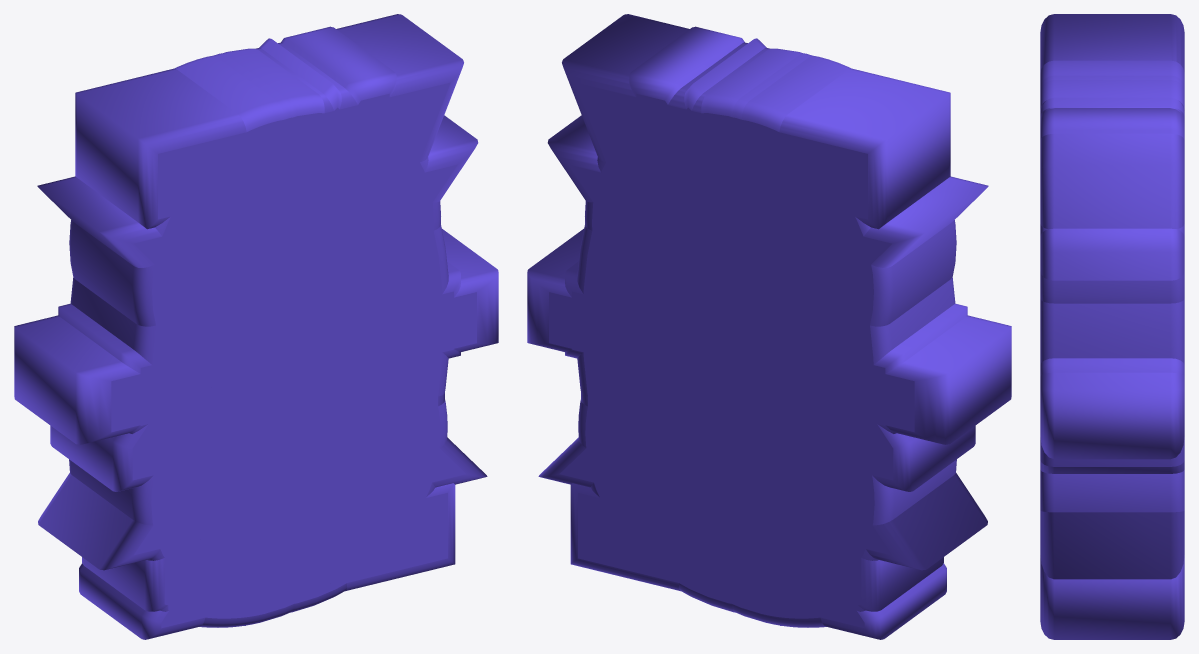
File: Numbers3D.fbx
3 renders of one model, left to right at view 1: azimuth 30°, elevation 25°; view 2: azimuth 150°, elevation 25°; view 3: azimuth 270°, elevation 25°, orthographic. The views are drawn at different scales.
Visible parts, largest first — view 1: 5, x, /, 7, 4, 6, 0, 2, +, 8, 3, 9 (+2 smaller); view 2: 7, 9, 2, x, /, 0, 4, 8, +, 3, -, 5 (+2 smaller); view 3: 7, x, /, 0, 2, 8, 4, +, 6, 9.
Part boxes in pixels (left/top/right/bottom): 5: left=82, top=97, right=422, bottom=613; x: left=37, top=115, right=487, bottom=570; /: left=14, top=229, right=498, bottom=521; 7: left=75, top=14, right=463, bottom=503; 4: left=50, top=26, right=444, bottom=589; 6: left=156, top=38, right=435, bottom=605; 0: left=70, top=48, right=448, bottom=550; 2: left=79, top=55, right=455, bottom=639; +: left=58, top=193, right=460, bottom=528; 8: left=69, top=113, right=447, bottom=612; 3: left=160, top=128, right=398, bottom=627; 9: left=69, top=53, right=308, bottom=625; 7: left=562, top=14, right=950, bottom=603; 9: left=592, top=53, right=956, bottom=625; 2: left=570, top=55, right=946, bottom=639; x: left=538, top=115, right=988, bottom=570; /: left=527, top=195, right=1011, bottom=444; 0: left=577, top=48, right=955, bottom=602; 4: left=581, top=26, right=975, bottom=588; 8: left=578, top=114, right=956, bottom=612; +: left=565, top=188, right=967, bottom=498; 3: left=618, top=124, right=865, bottom=627; -: left=692, top=335, right=867, bottom=417; 5: left=767, top=209, right=943, bottom=611; 7: left=1040, top=14, right=1184, bottom=228; x: left=1040, top=228, right=1184, bottom=579; /: left=1040, top=372, right=1184, bottom=459; 0: left=1040, top=80, right=1184, bottom=466; 2: left=1040, top=60, right=1184, bottom=639; 8: left=1040, top=224, right=1184, bottom=512; 4: left=1040, top=108, right=1184, bottom=473; +: left=1040, top=358, right=1184, bottom=375; 6: left=1040, top=97, right=1184, bottom=116; 9: left=1040, top=75, right=1184, bottom=91.
Bounding box in the file's own units: 63.93 × 75.2 × 19.8.
